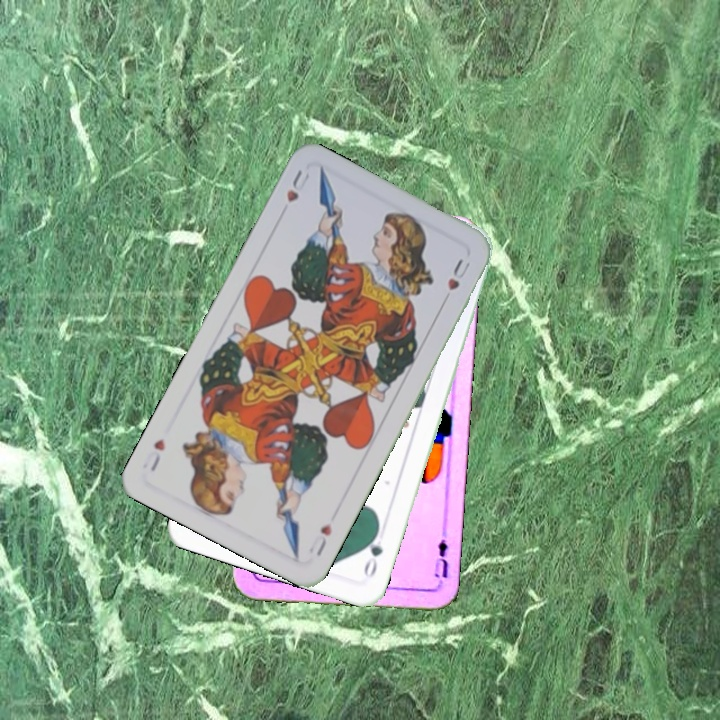EU: (429, 527, 451, 587)
GO: (359, 523, 386, 580)
HU: (282, 165, 312, 205), (310, 518, 335, 559)
